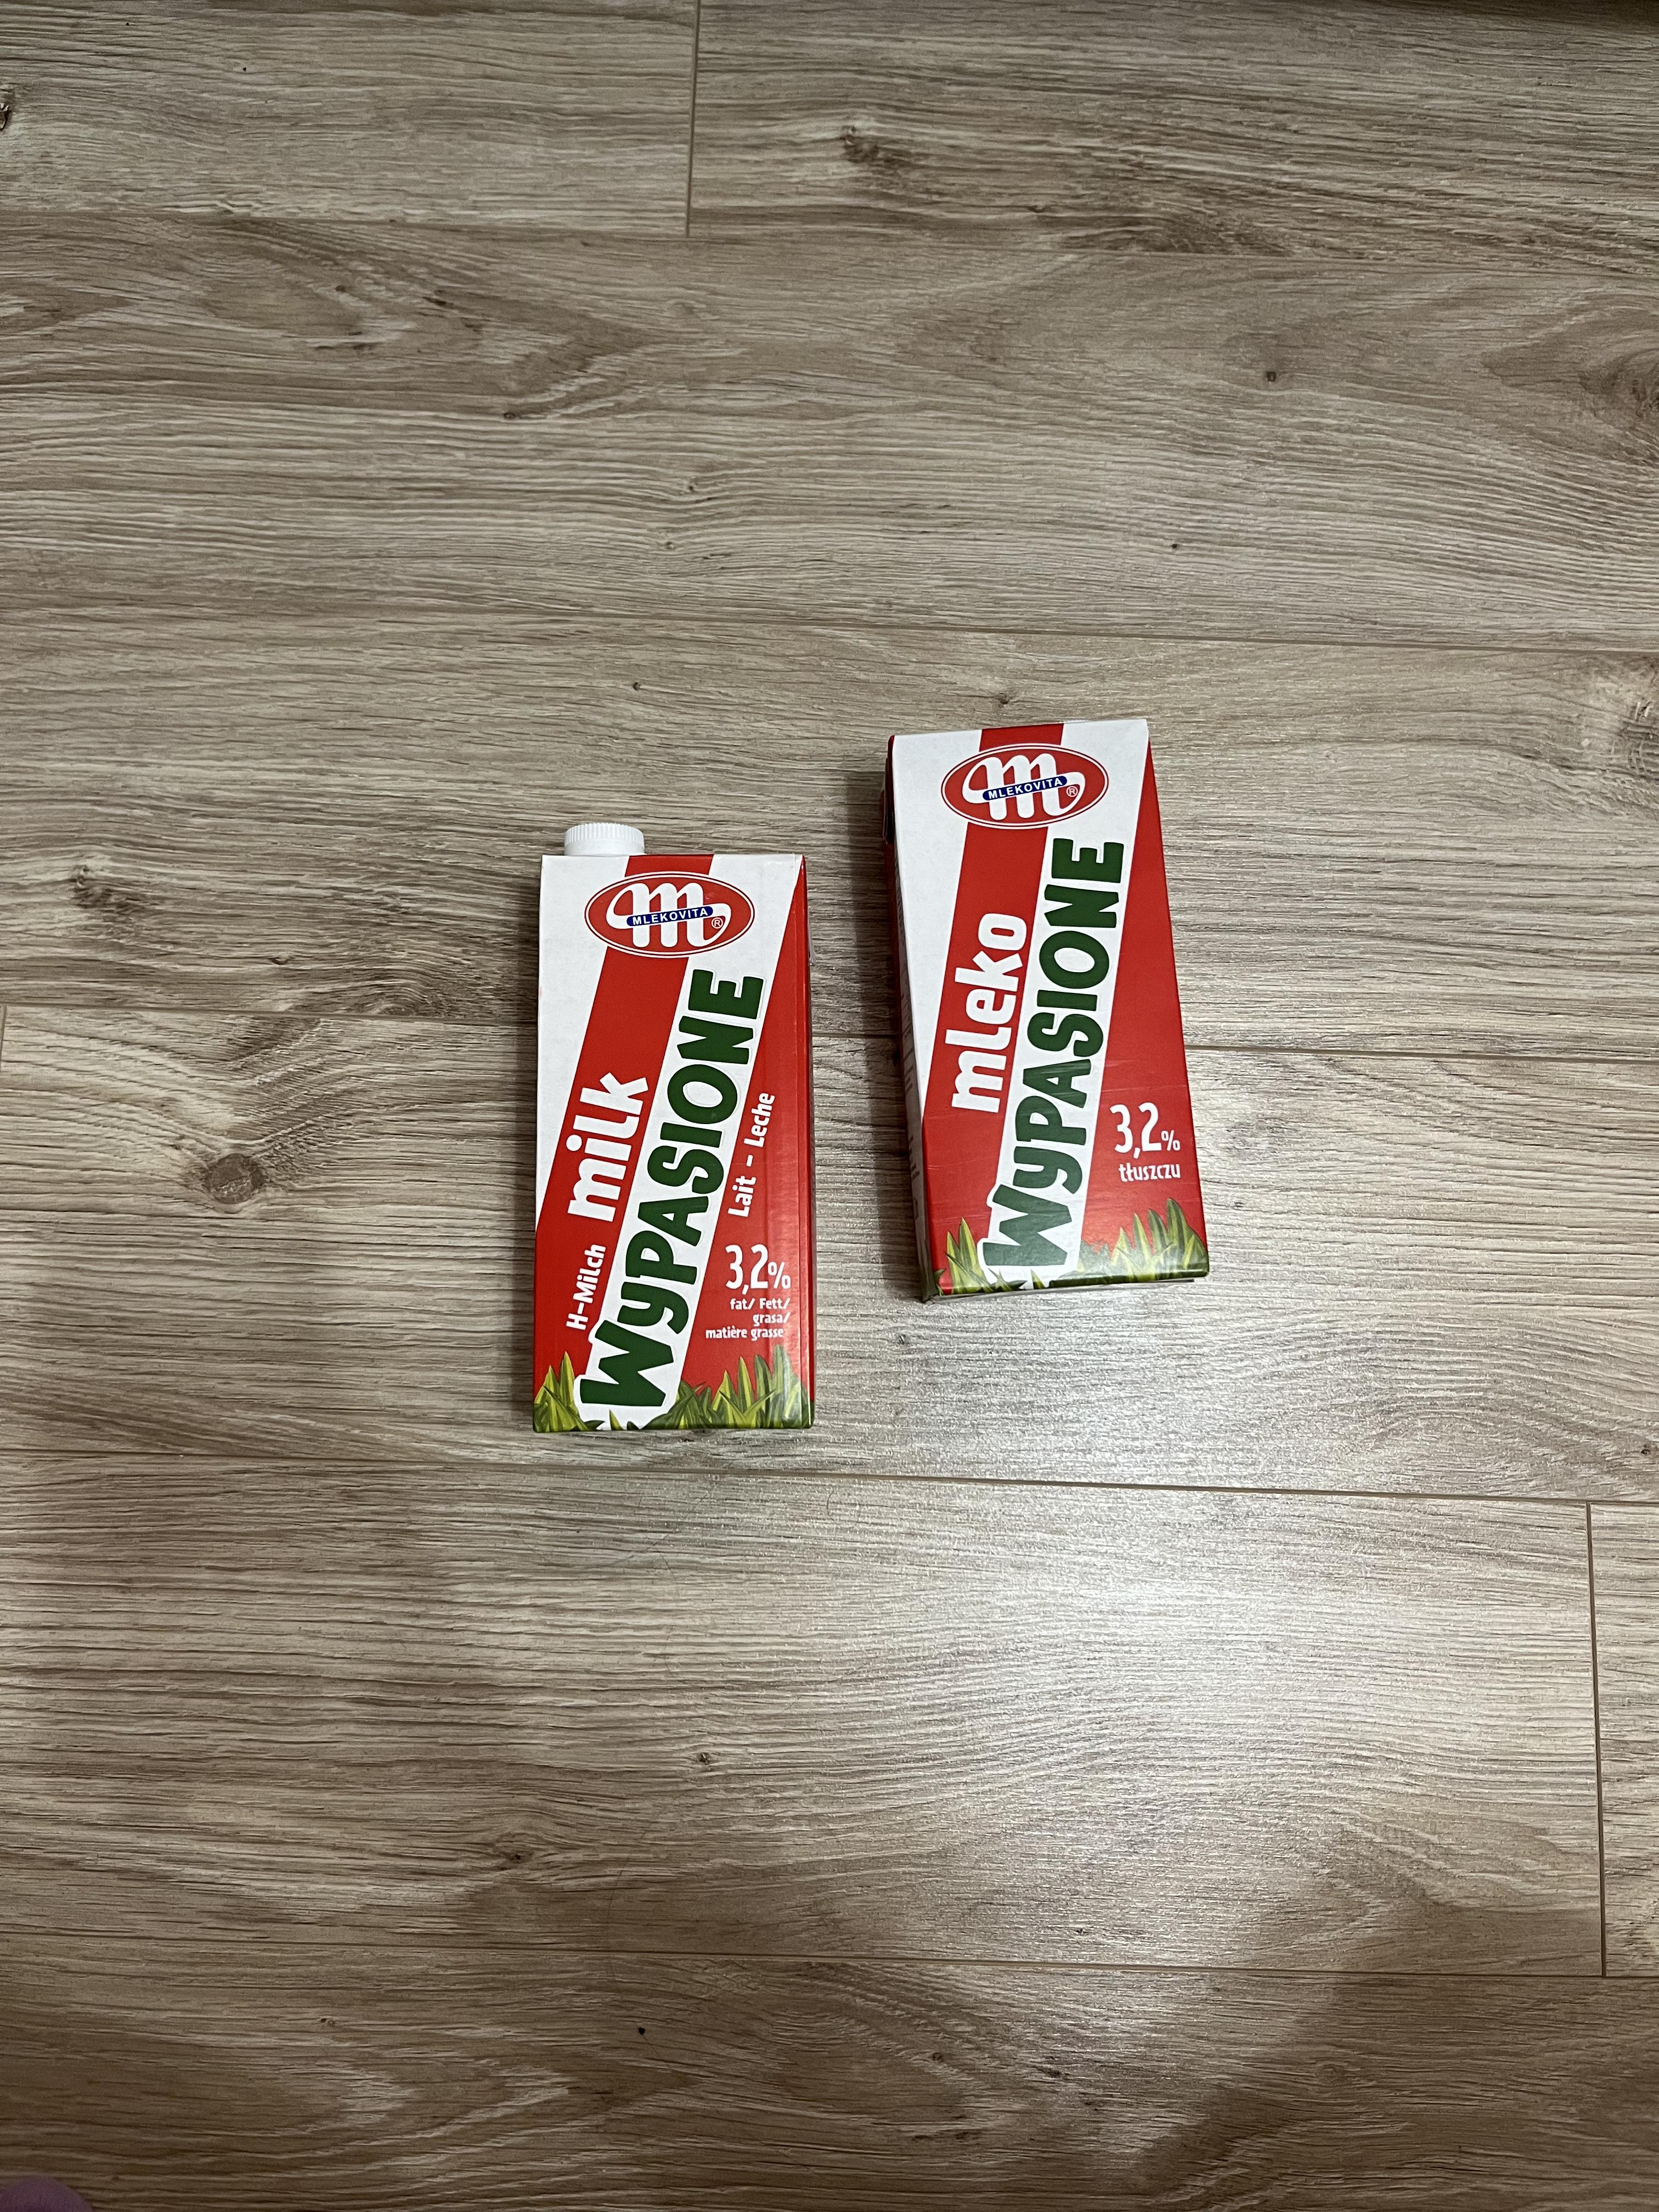Milk: (518, 845, 824, 1440), (892, 716, 1201, 1289)
